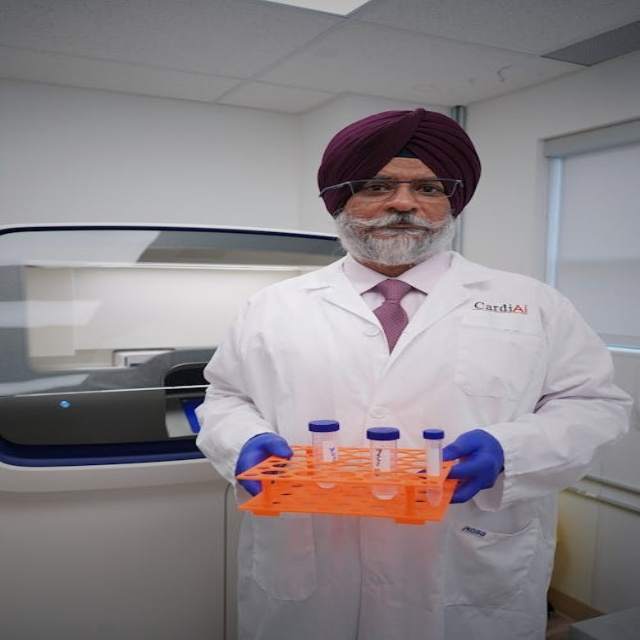Gafas: (323, 178, 463, 203)
Guantes: (432, 429, 505, 505), (235, 433, 292, 496)
Sin_mascara: (362, 212, 438, 247)
